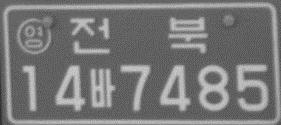1: (17, 63, 47, 113)
4: (159, 64, 191, 112), (55, 65, 85, 112)
5: (234, 63, 269, 112)
7: (119, 63, 150, 111)
8: (197, 63, 230, 111)
바: (88, 67, 115, 109)
영: (15, 16, 51, 55)
전북_D: (69, 15, 208, 55)
